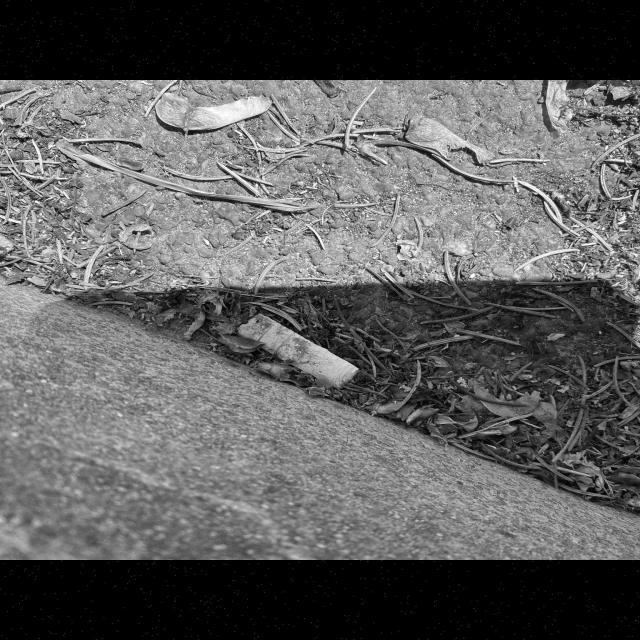other waste: (236, 312, 361, 390)
